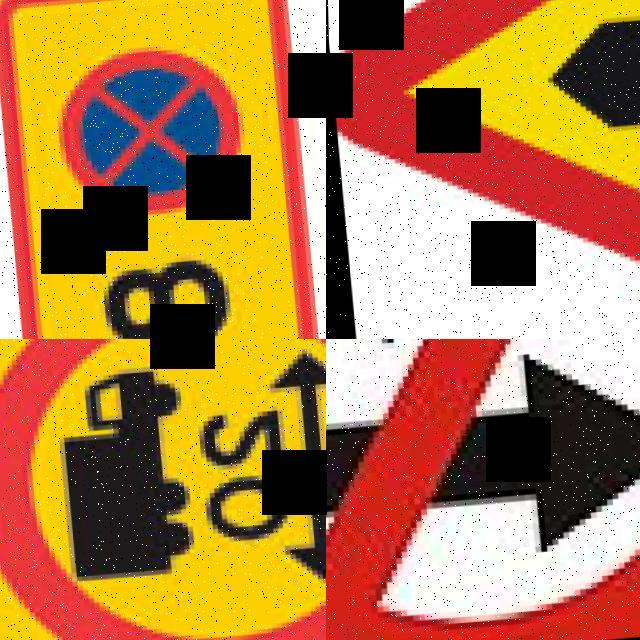166: (326, 0, 640, 339)
181: (0, 0, 326, 339)
No vehicles exceeding length shown: (0, 339, 326, 640)
No vehicles in both directions: (326, 339, 640, 640)
